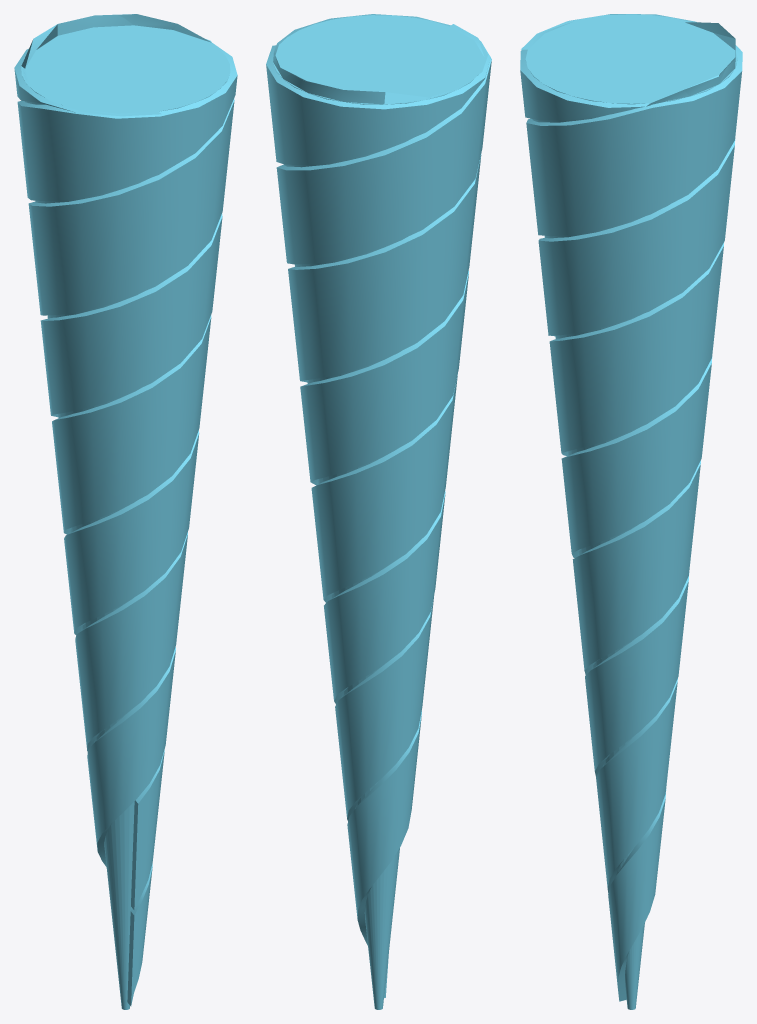
Rendered from glacon.fbx.
3 views of the same model, side by side, from view 1: azimuth 30°, elevation 25°; view 2: azimuth 150°, elevation 25°; view 3: azimuth 270°, elevation 25° (orthographic).
Parts seen in each view (by area): view 1: bump glace; view 2: bump glace; view 3: bump glace.
Boxes of the visible parts, x1,y1,x2,y2 form: bump glace: (14, 14, 237, 1009); bump glace: (266, 14, 491, 1009); bump glace: (520, 14, 742, 1009).
Size of the model in its own units: 114 by 543 by 114.
